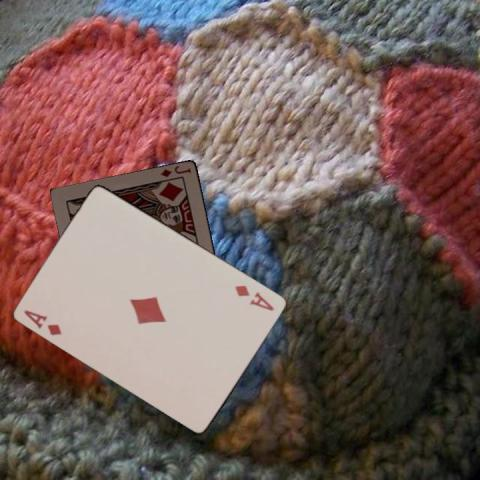Ad: (232, 281, 276, 313), (21, 306, 64, 336)
Jd: (158, 163, 193, 178)
